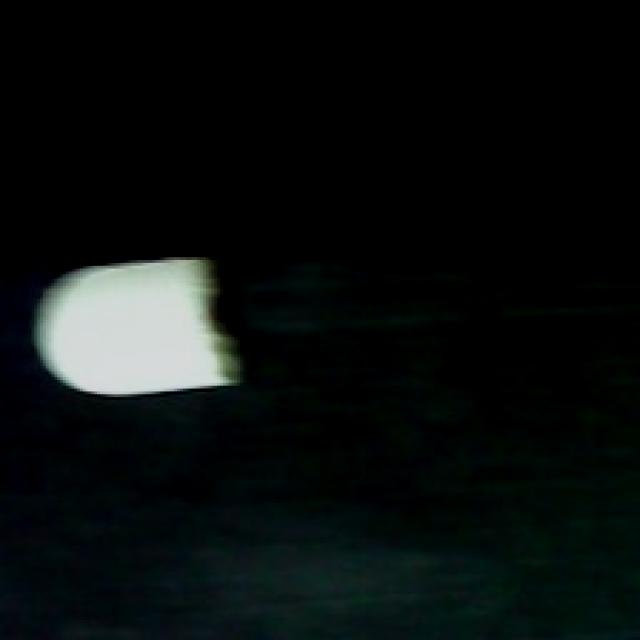defected: (27, 252, 248, 403)
